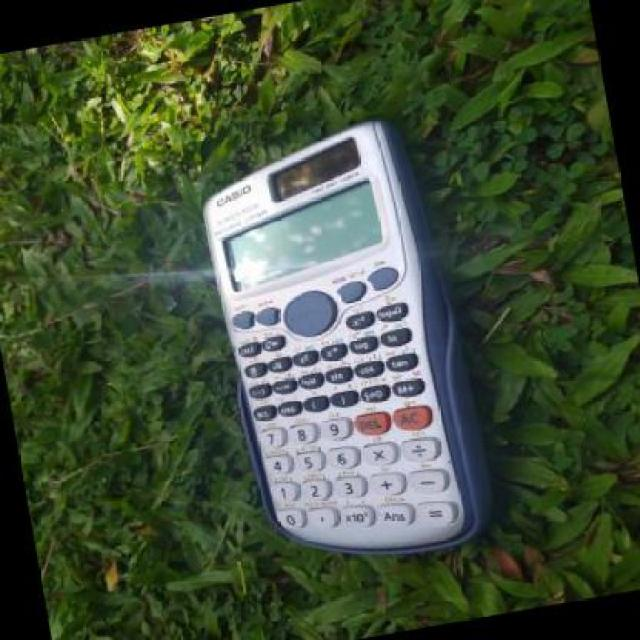Calculator: (176, 101, 493, 584)
